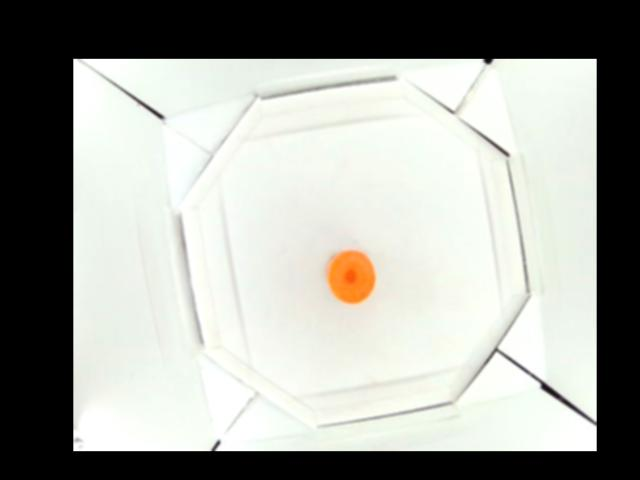Carrot: (327, 251, 375, 304)
